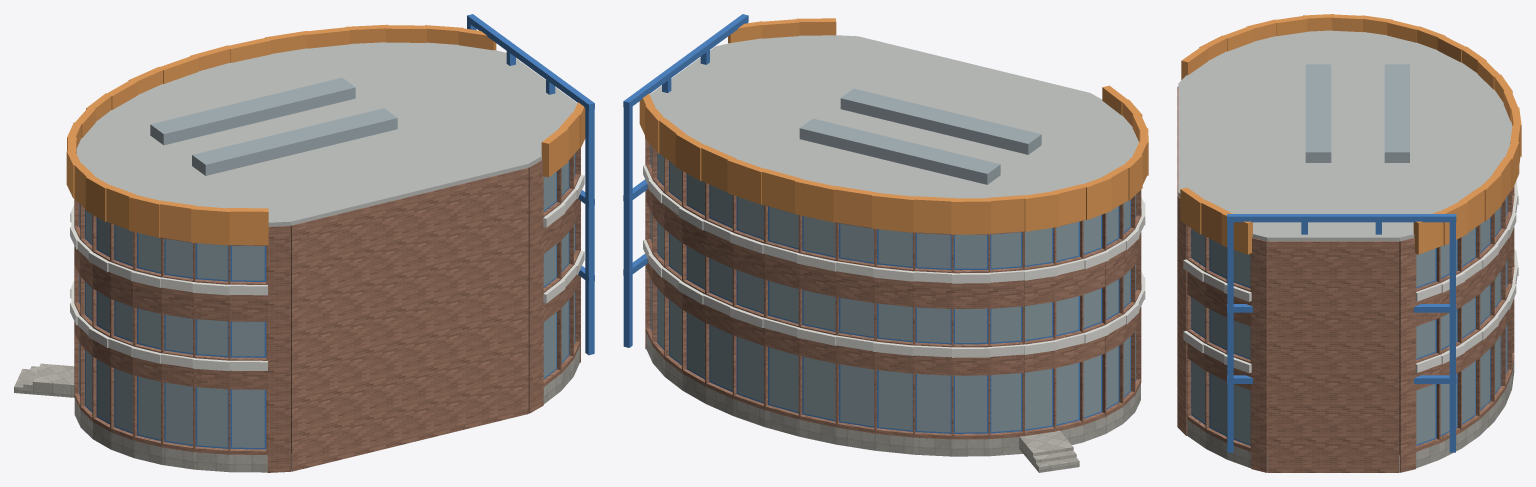
3 renders of one model, left to right at view 1: azimuth 30°, elevation 25°; view 2: azimuth 150°, elevation 25°; view 3: azimuth 270°, elevation 25°, orthographic. The views are drawn at different scales.
Parts seen in each view (by area): view 1: drum__brick, drum__roof, drum__glass, drum__orange, drum__skylight, drum__blue, drum__band, drum__stone, drum__threshold-front, drum__stair-front; view 2: drum__glass, drum__roof, drum__brick, drum__orange, drum__blue, drum__band, drum__skylight, drum__stone, drum__stair-front, drum__threshold-front; view 3: drum__brick, drum__roof, drum__glass, drum__orange, drum__blue, drum__skylight, drum__band, drum__stone.
Part boxes in pixels (x1,y1,x2,y2): drum__brick: (74,148,580,472); drum__roof: (76,42,577,226); drum__glass: (79,154,574,447); drum__orange: (66,24,585,245); drum__skylight: (150,77,397,175); drum__blue: (79,14,594,449); drum__band: (70,175,584,371); drum__stone: (74,346,579,472); drum__threshold-front: (41,364,74,397); drum__stair-front: (14,363,49,395); drum__glass: (651,146,1135,432); drum__roof: (649,35,1138,198); drum__brick: (645,139,1141,439); drum__orange: (639,18,1148,234); drum__blue: (623,14,1136,433); drum__band: (643,165,1145,357); drum__skylight: (799,88,1041,184); drum__stone: (646,333,1140,456); drum__stair-front: (1030,443,1079,472); drum__threshold-front: (1019,430,1070,461); drum__brick: (1177,86,1514,472); drum__roof: (1178,30,1512,241); drum__glass: (1192,196,1507,444); drum__orange: (1180,14,1521,254); drum__blue: (1191,195,1507,452); drum__skylight: (1305,64,1409,162); drum__band: (1183,181,1518,373); drum__stone: (1187,359,1514,472).
Bounding box in the file's own units: 22.05 × 12.05 × 14.86.
9 materials, 2 textured.
